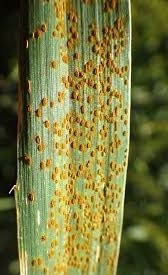Leaf Rust: (30, 16, 133, 275)
